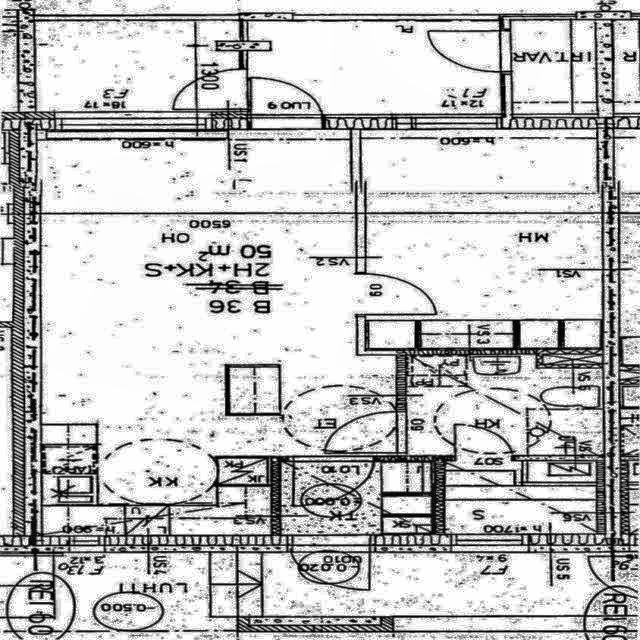room: (361, 129, 603, 348), (248, 20, 501, 114), (407, 355, 604, 455), (35, 20, 240, 112), (445, 461, 597, 534), (281, 462, 432, 535), (511, 19, 597, 118)
